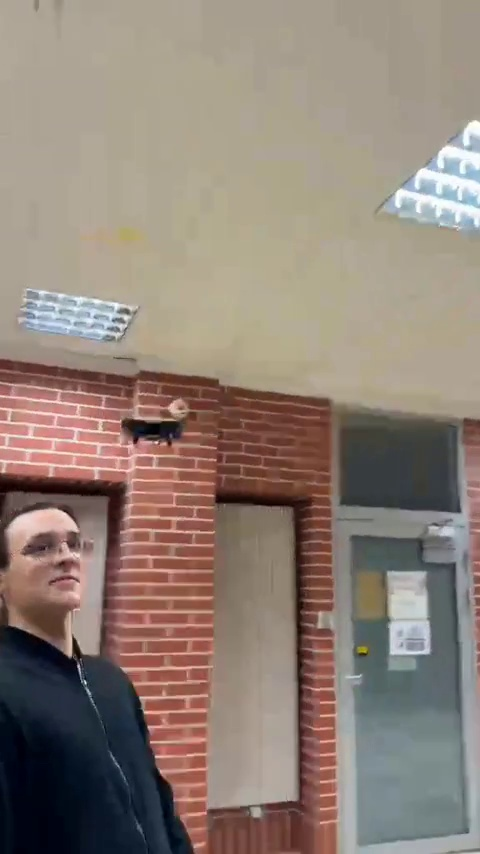drone: (116, 414, 191, 448)
no vest: (0, 502, 204, 854)
